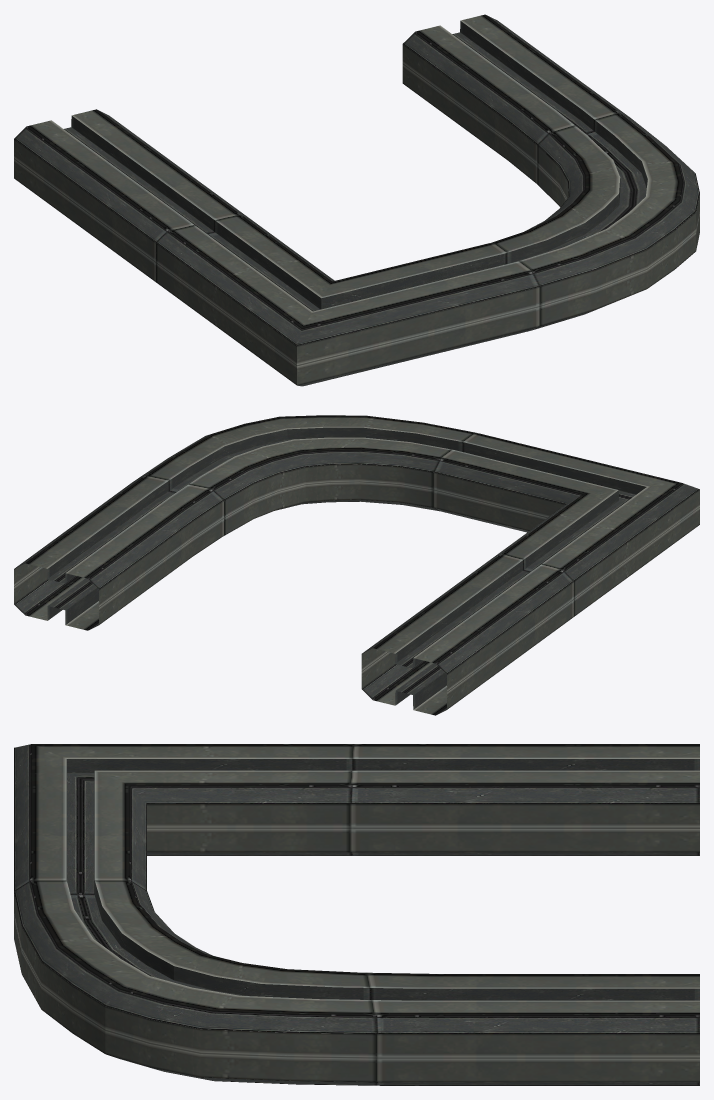
The model's file is Neon_WindowHospCap01b.FBX.
The picture shows the model from 3 angles, top to bottom: view 1: azimuth 30°, elevation 25°; view 2: azimuth 150°, elevation 25°; view 3: azimuth 270°, elevation 25°; orthographic projection. The views are drawn at different scales.
Parts seen in each view (by area): view 1: Neon_WindowHospCap01b; view 2: Neon_WindowHospCap01b; view 3: Neon_WindowHospCap01b.
Part boxes in pixels (x1=…): Neon_WindowHospCap01b: x1=14, y1=14, x2=699, y2=386; Neon_WindowHospCap01b: x1=14, y1=415, x2=699, y2=715; Neon_WindowHospCap01b: x1=14, y1=744, x2=699, y2=1085.
Bounding box in the file's own units: 1.93 × 0.2222 × 1.96.
